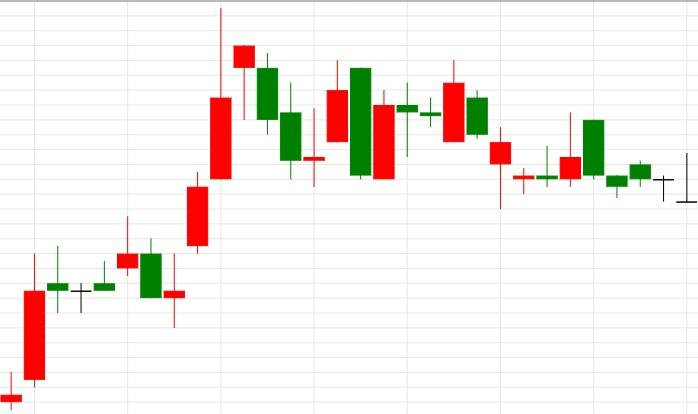hanging_man_fall: (163, 9, 255, 328)
inverse_hammer_rise: (466, 89, 581, 209)
morning_star_rise: (234, 45, 348, 188)
